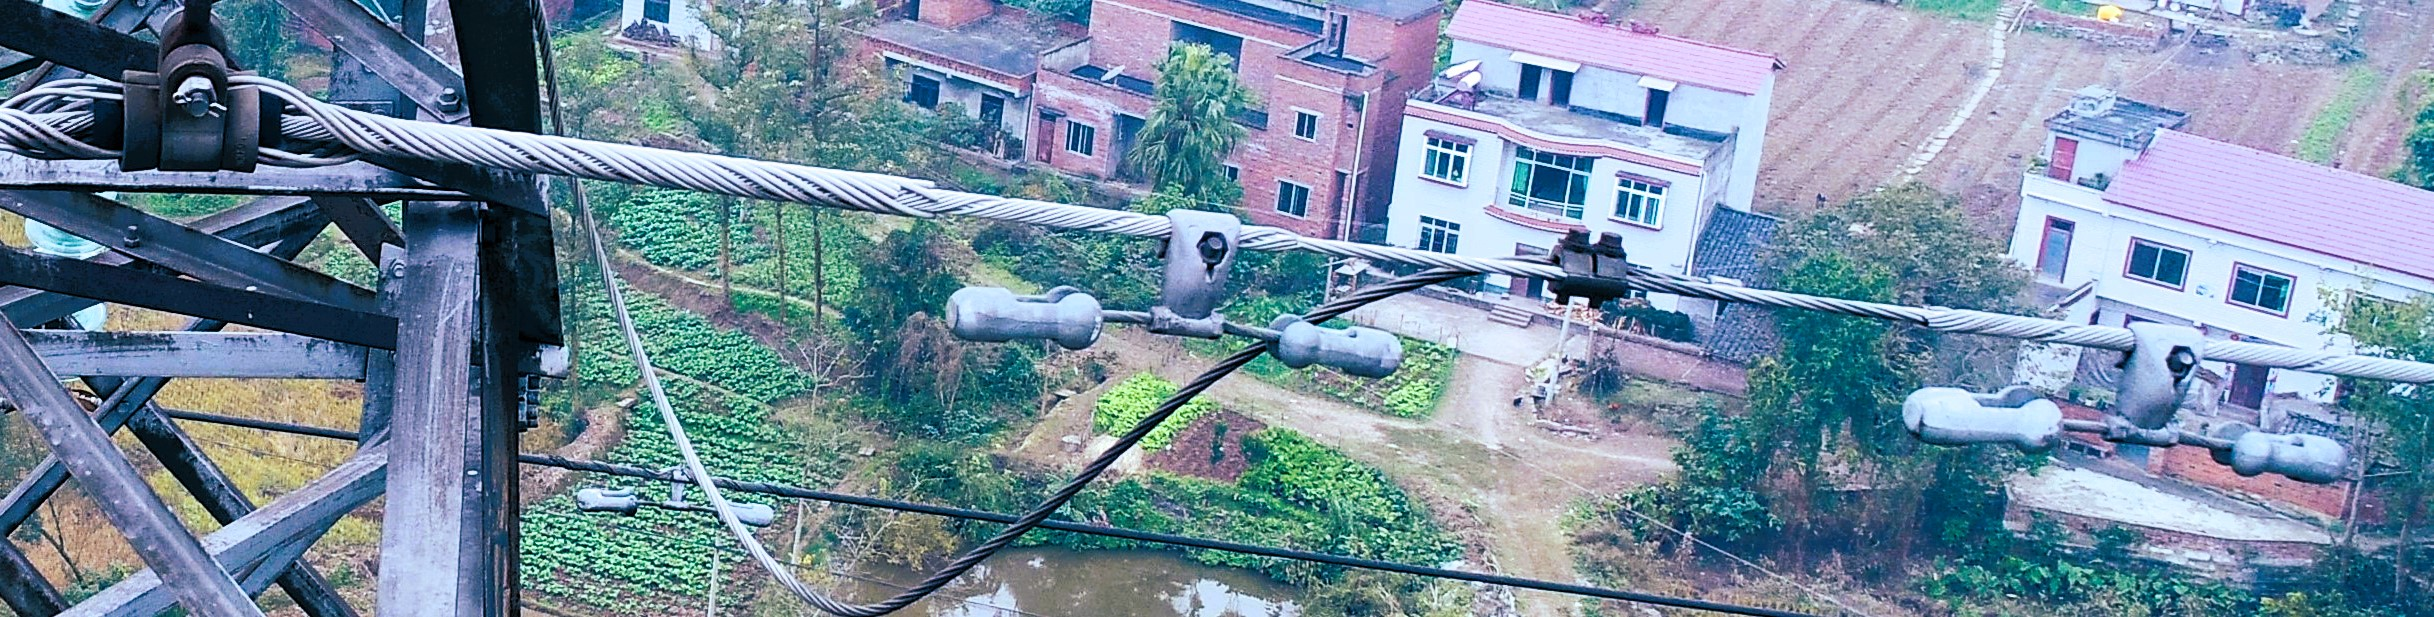Shockproof hammer: (933, 179, 1413, 406), (1888, 281, 2352, 497)
